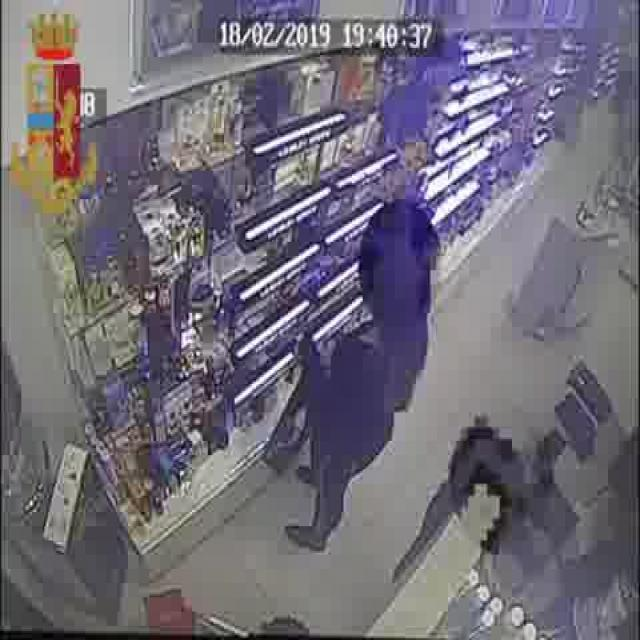Shoplifting: (261, 172, 451, 550)
